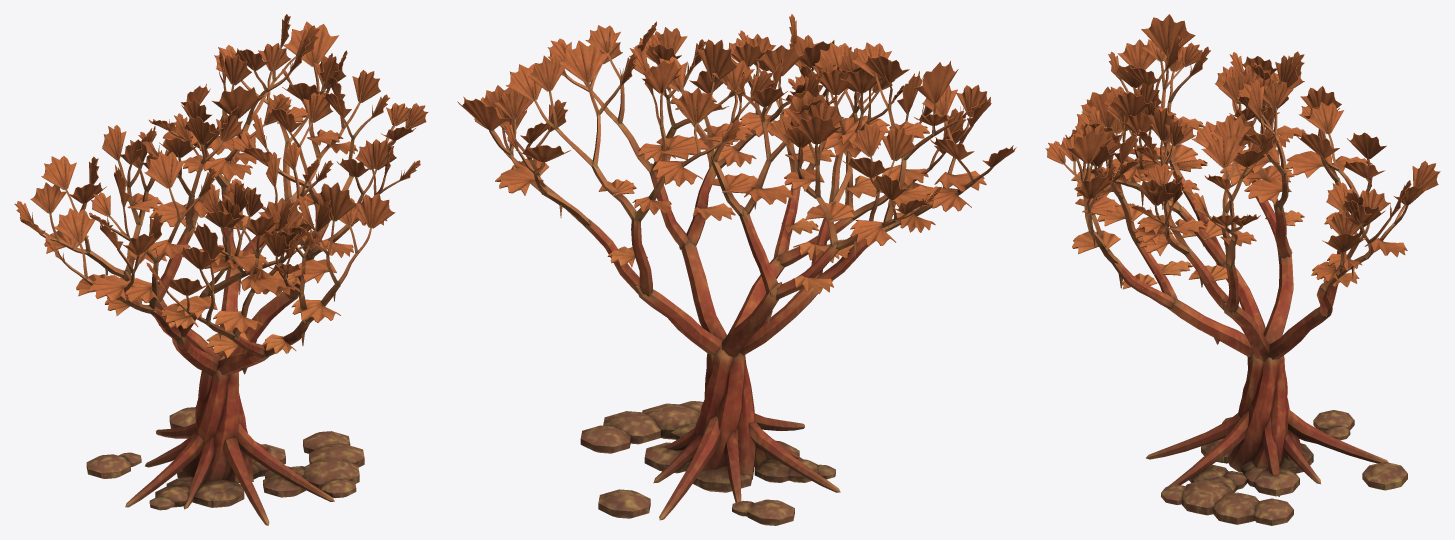
File: mars_ferric.glb
3 views of the same model, side by side, from view 1: azimuth 30°, elevation 25°; view 2: azimuth 150°, elevation 25°; view 3: azimuth 270°, elevation 25° (orthographic). The views are drawn at different scales.
Parts seen in each view (by area): view 1: ferric_body; view 2: ferric_body; view 3: ferric_body.
Part boxes in pixels (x1,y1,x2,y2): ferric_body: [14, 14, 428, 525]; ferric_body: [457, 14, 1016, 525]; ferric_body: [1045, 14, 1440, 525].
Size of the model in its own units: 4.84 by 4.53 by 4.07.
Materials: 3 (3 with a texture image).
